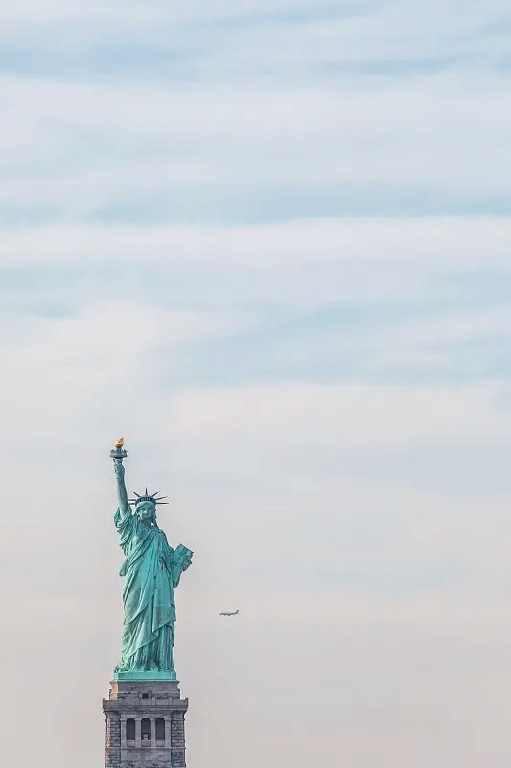SL: (101, 437, 194, 768)
